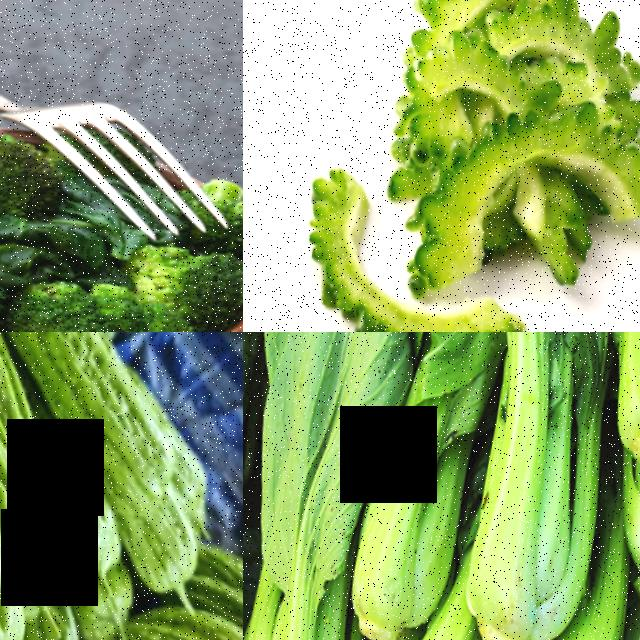bitter gourd: (361, 0, 640, 297), (0, 332, 225, 429)
bok choy: (442, 332, 620, 640), (327, 332, 503, 640)
broccoli: (111, 225, 243, 314), (0, 267, 153, 332), (0, 111, 55, 228)
